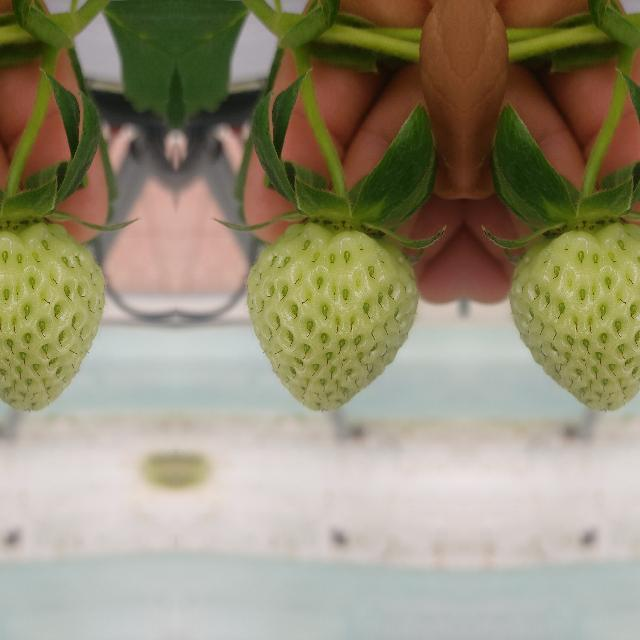Health_25: (246, 222, 417, 410), (509, 222, 640, 410), (0, 222, 104, 410)
